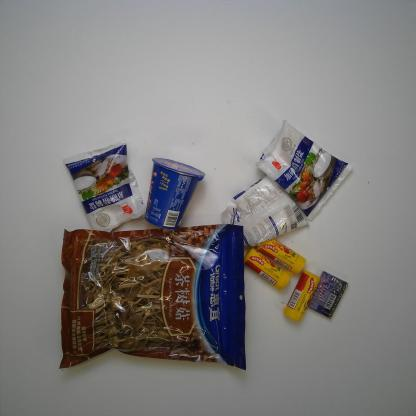Candy: (242, 246, 292, 292), (282, 268, 322, 324), (255, 237, 308, 276)
Dessert: (144, 157, 206, 232)
Dried Food: (58, 222, 248, 372)
Gum: (307, 270, 349, 320)
Seasoner: (253, 117, 357, 226), (58, 137, 147, 237), (218, 174, 313, 250)
